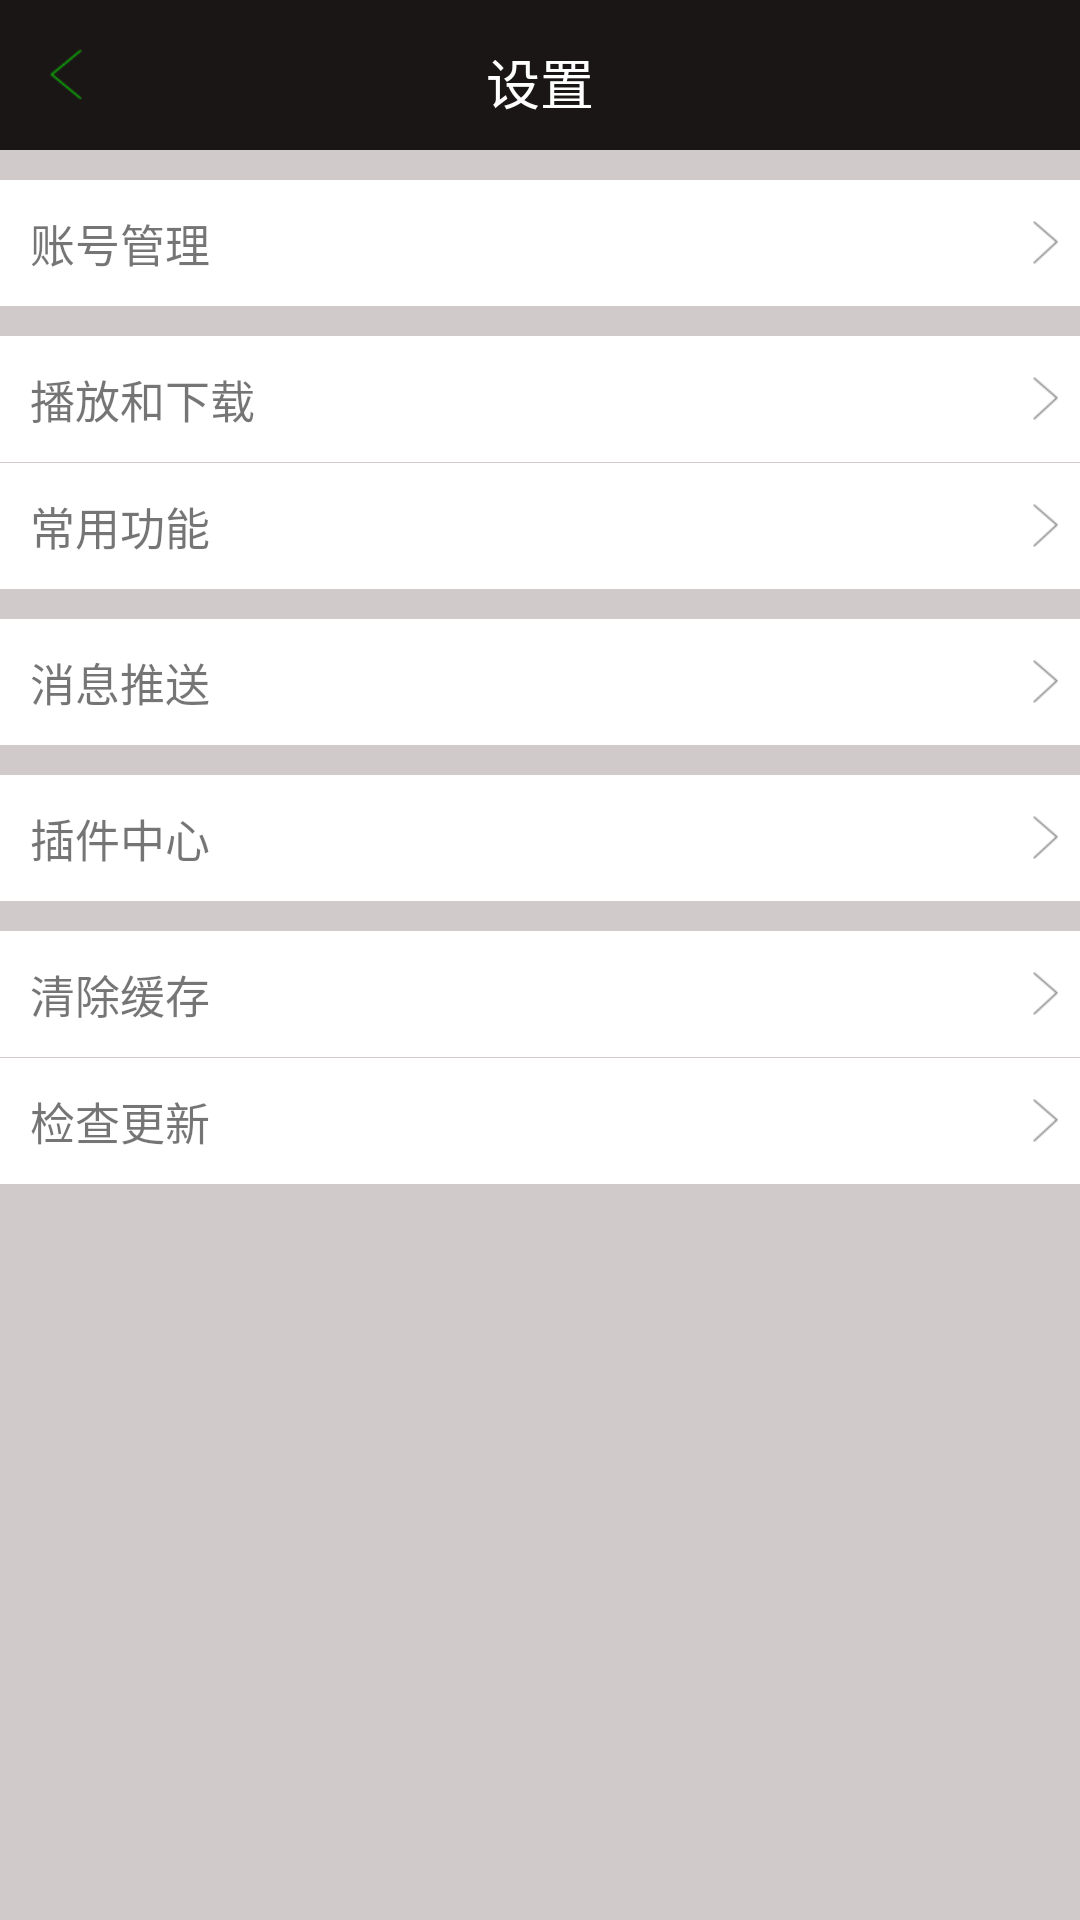

Where to tap for icons on this 1080×1920 app screen, as (x=x, y=y):
arrow right: (x=1045, y=242), (x=1045, y=398), (x=1045, y=525), (x=1045, y=681), (x=1045, y=837), (x=1045, y=993), (x=1045, y=1120)
phone account back: (x=66, y=74)
